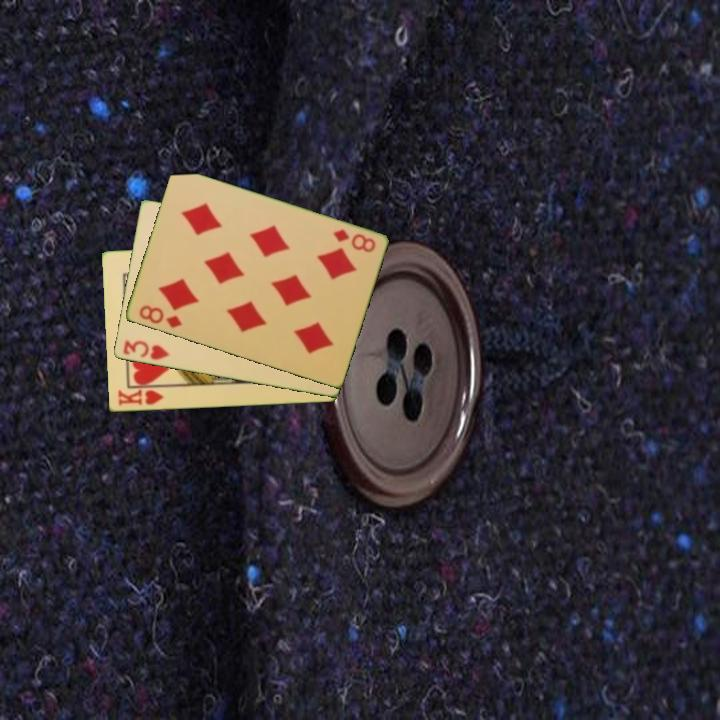3h: (119, 337, 172, 363)
8d: (329, 226, 378, 256), (135, 302, 185, 331)
Kh: (114, 383, 170, 409)
